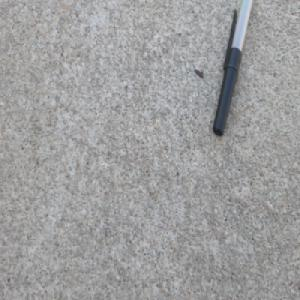Pen: (208, 0, 252, 138)
